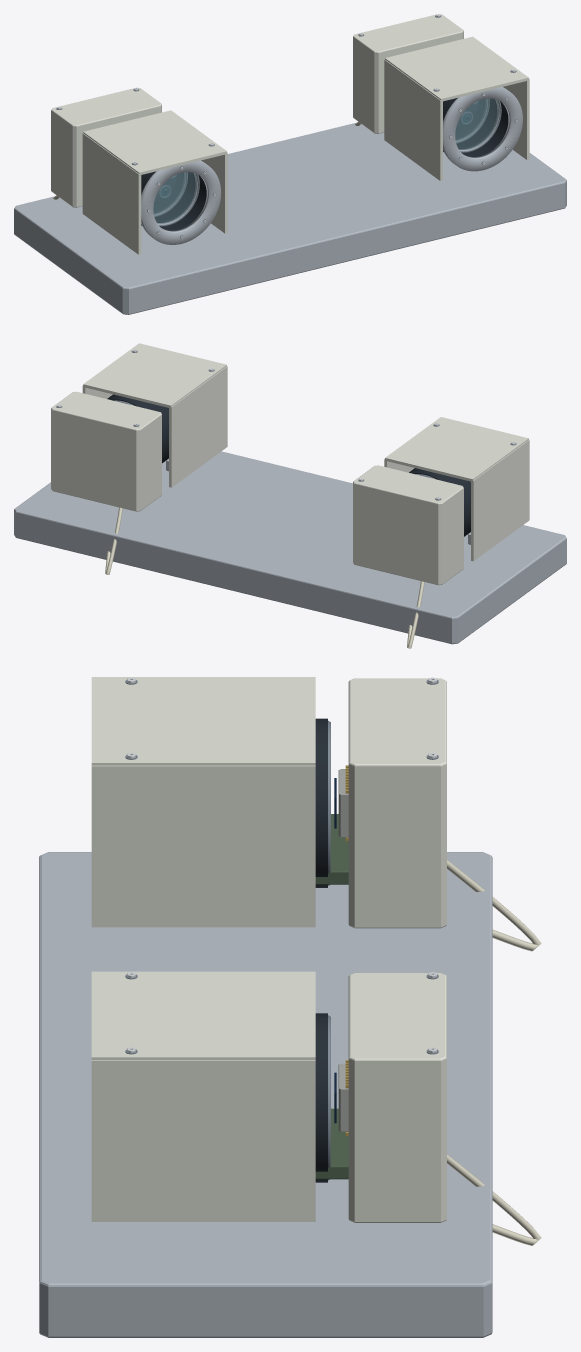
Rendered from mer-pancam.glb.
3 views of the same model, one above another, from view 1: azimuth 30°, elevation 25°; view 2: azimuth 150°, elevation 25°; view 3: azimuth 270°, elevation 25° (orthographic). The views are drawn at different scales.
Visible parts, largest first — view 1: OPTICAL_BENCH_Machined_aluminium, CAMERA_LEFT_COVER_White_thermal_coating, CAMERA_RIGHT_COVER_White_thermal_coating, BORED_FLANGE_3_Machined_aluminium (×2), CAMERA_LEFT_LENS_3_Optical_glass, CAMERA_RIGHT_LENS_3_Optical_glass, CAMERA_LEFT_BARREL_COVER_Anodized_aluminium, CAMERA_RIGHT_BARREL_COVER_Anodized_aluminium, CAMERA_RIGHT_LENS_2_Optical_glass, CAMERA_LEFT_LENS_2_Optical_glass, CAMERA_LEFT_BARREL_Anodized_aluminium, CAMERA_RIGHT_BARREL_Anodized_aluminium; view 2: OPTICAL_BENCH_Machined_aluminium, CAMERA_RIGHT_COVER_White_thermal_coating, CAMERA_LEFT_COVER_White_thermal_coating, CAMERA_RIGHT_BARREL_Anodized_aluminium, CAMERA_LEFT_BARREL_Anodized_aluminium; view 3: OPTICAL_BENCH_Machined_aluminium, CAMERA_LEFT_COVER_White_thermal_coating, CAMERA_RIGHT_COVER_White_thermal_coating, CAMERA_LEFT_BARREL_Anodized_aluminium, CAMERA_RIGHT_BARREL_Anodized_aluminium, CAMERA_RIGHT_SERVICE_LOOP, CAMERA_LEFT_SERVICE_LOOP, CAMERA_RIGHT_DETECTOR_Epoxy_circuit_substrate, CAMERA_LEFT_DETECTOR_Epoxy_circuit_substrate.
Boxes of the visible parts, left/top/right/bottom form: OPTICAL_BENCH_Machined_aluminium: left=14, top=122, right=566, bottom=314; CAMERA_LEFT_COVER_White_thermal_coating: left=51, top=87, right=227, bottom=254; CAMERA_RIGHT_COVER_White_thermal_coating: left=353, top=14, right=529, bottom=180; BORED_FLANGE_3_Machined_aluminium (×2): left=141, top=87, right=522, bottom=244; CAMERA_LEFT_LENS_3_Optical_glass: left=153, top=172, right=197, bottom=223; CAMERA_RIGHT_LENS_3_Optical_glass: left=455, top=98, right=498, bottom=150; CAMERA_LEFT_BARREL_COVER_Anodized_aluminium: left=141, top=182, right=204, bottom=230; CAMERA_RIGHT_BARREL_COVER_Anodized_aluminium: left=443, top=108, right=506, bottom=156; CAMERA_RIGHT_LENS_2_Optical_glass: left=455, top=99, right=486, bottom=140; CAMERA_LEFT_LENS_2_Optical_glass: left=153, top=173, right=185, bottom=214; CAMERA_LEFT_BARREL_Anodized_aluminium: left=141, top=171, right=206, bottom=202; CAMERA_RIGHT_BARREL_Anodized_aluminium: left=443, top=98, right=508, bottom=128; OPTICAL_BENCH_Machined_aluminium: left=14, top=451, right=566, bottom=644; CAMERA_RIGHT_COVER_White_thermal_coating: left=51, top=343, right=227, bottom=511; CAMERA_LEFT_COVER_White_thermal_coating: left=353, top=417, right=529, bottom=585; CAMERA_RIGHT_BARREL_Anodized_aluminium: left=107, top=394, right=168, bottom=458; CAMERA_LEFT_BARREL_Anodized_aluminium: left=409, top=468, right=470, bottom=531; OPTICAL_BENCH_Machined_aluminium: left=39, top=852, right=492, bottom=1337; CAMERA_LEFT_COVER_White_thermal_coating: left=91, top=677, right=446, bottom=928; CAMERA_RIGHT_COVER_White_thermal_coating: left=91, top=971, right=446, bottom=1222; CAMERA_LEFT_BARREL_Anodized_aluminium: left=315, top=718, right=327, bottom=865; CAMERA_RIGHT_BARREL_Anodized_aluminium: left=315, top=1013, right=327, bottom=1160; CAMERA_RIGHT_SERVICE_LOOP: left=447, top=1154, right=541, bottom=1245; CAMERA_LEFT_SERVICE_LOOP: left=447, top=860, right=541, bottom=951; CAMERA_RIGHT_DETECTOR_Epoxy_circuit_substrate: left=315, top=1108, right=348, bottom=1179; CAMERA_LEFT_DETECTOR_Epoxy_circuit_substrate: left=315, top=814, right=348, bottom=884.
Size of the model in its own units: 0.4121 by 0.1185 by 0.2019.
